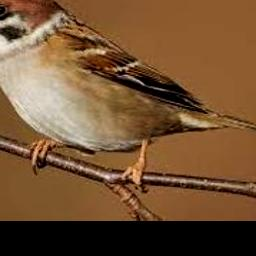Sparrow: (0, 0, 256, 192)
